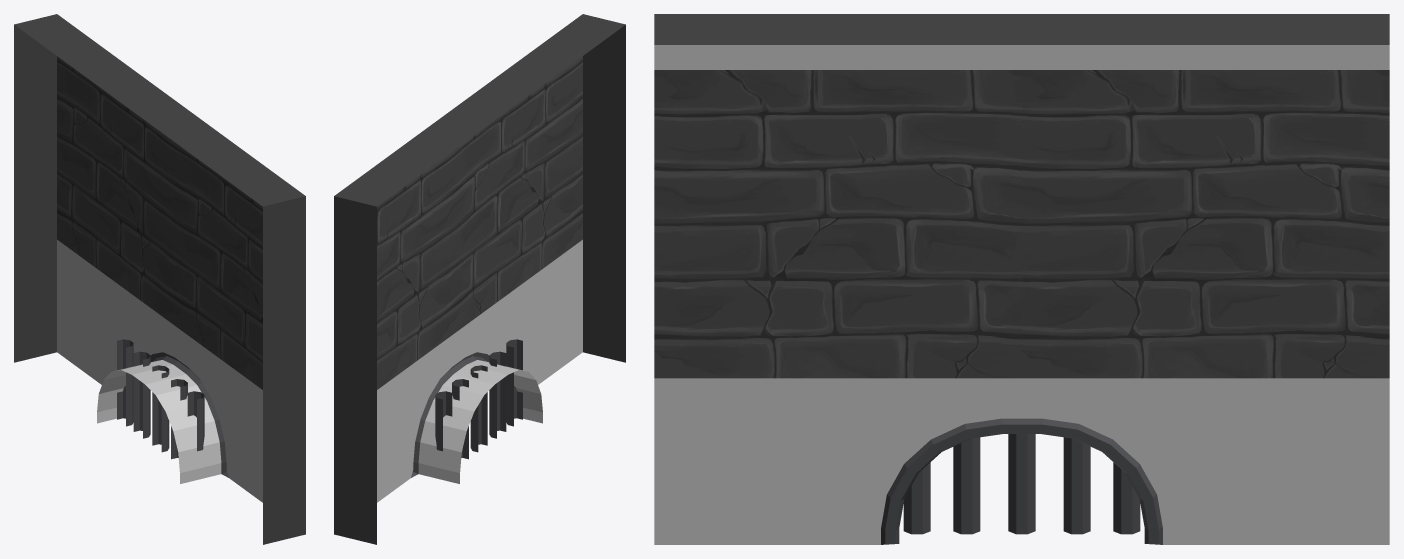
The model's file is SM_ModularKit_WallGutter.fbx.
The picture shows the model from 3 angles, left to right: view 1: azimuth 30°, elevation 25°; view 2: azimuth 150°, elevation 25°; view 3: azimuth 270°, elevation 25°; orthographic projection. The views are drawn at different scales.
Parts seen in each view (by area): view 1: WallGutter; view 2: WallGutter; view 3: WallGutter.
Part boxes in pixels (<box>): WallGutter: <box>14,14,305,544</box>; WallGutter: <box>334,14,625,544</box>; WallGutter: <box>654,14,1389,544</box>.
Size of the model in its own units: 42.93 by 300 by 400.
